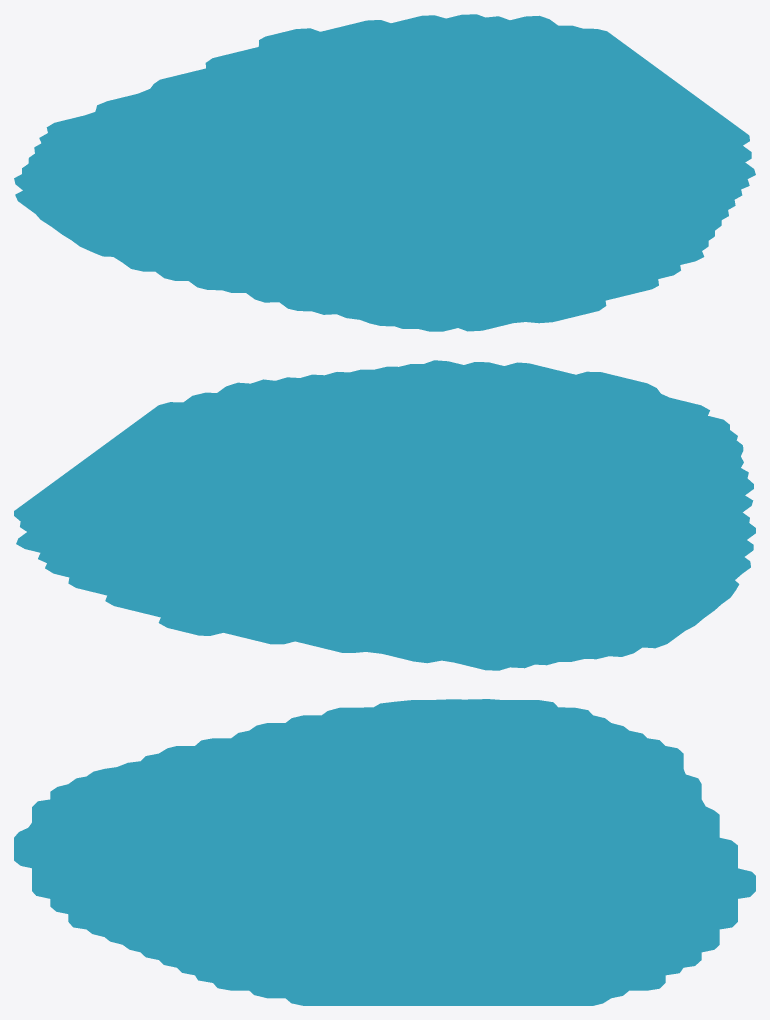
File: Water.fbx
3 renders of one model, top to bottom at view 1: azimuth 30°, elevation 25°; view 2: azimuth 150°, elevation 25°; view 3: azimuth 270°, elevation 25°, orthographic.
Visible parts, largest first — view 1: Water; view 2: Water; view 3: Water.
Part boxes in pixels (bbox=[...]): Water: bbox=[14, 14, 755, 331]; Water: bbox=[14, 360, 755, 670]; Water: bbox=[14, 699, 755, 1005].
Bounding box in the file's own units: 401 × 2.51e-14 × 410.
